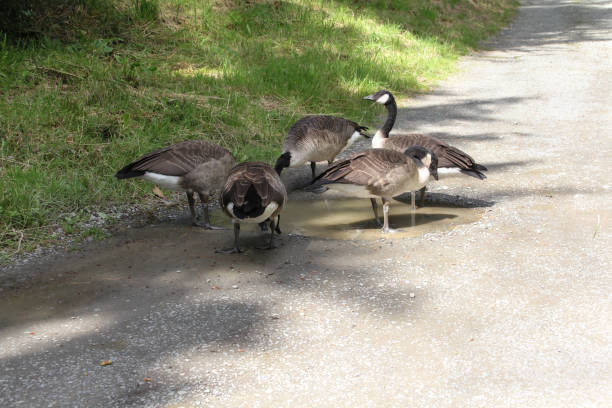goose: (304, 144, 445, 238), (109, 138, 238, 238), (361, 87, 492, 182), (217, 157, 291, 252), (267, 112, 365, 182)
